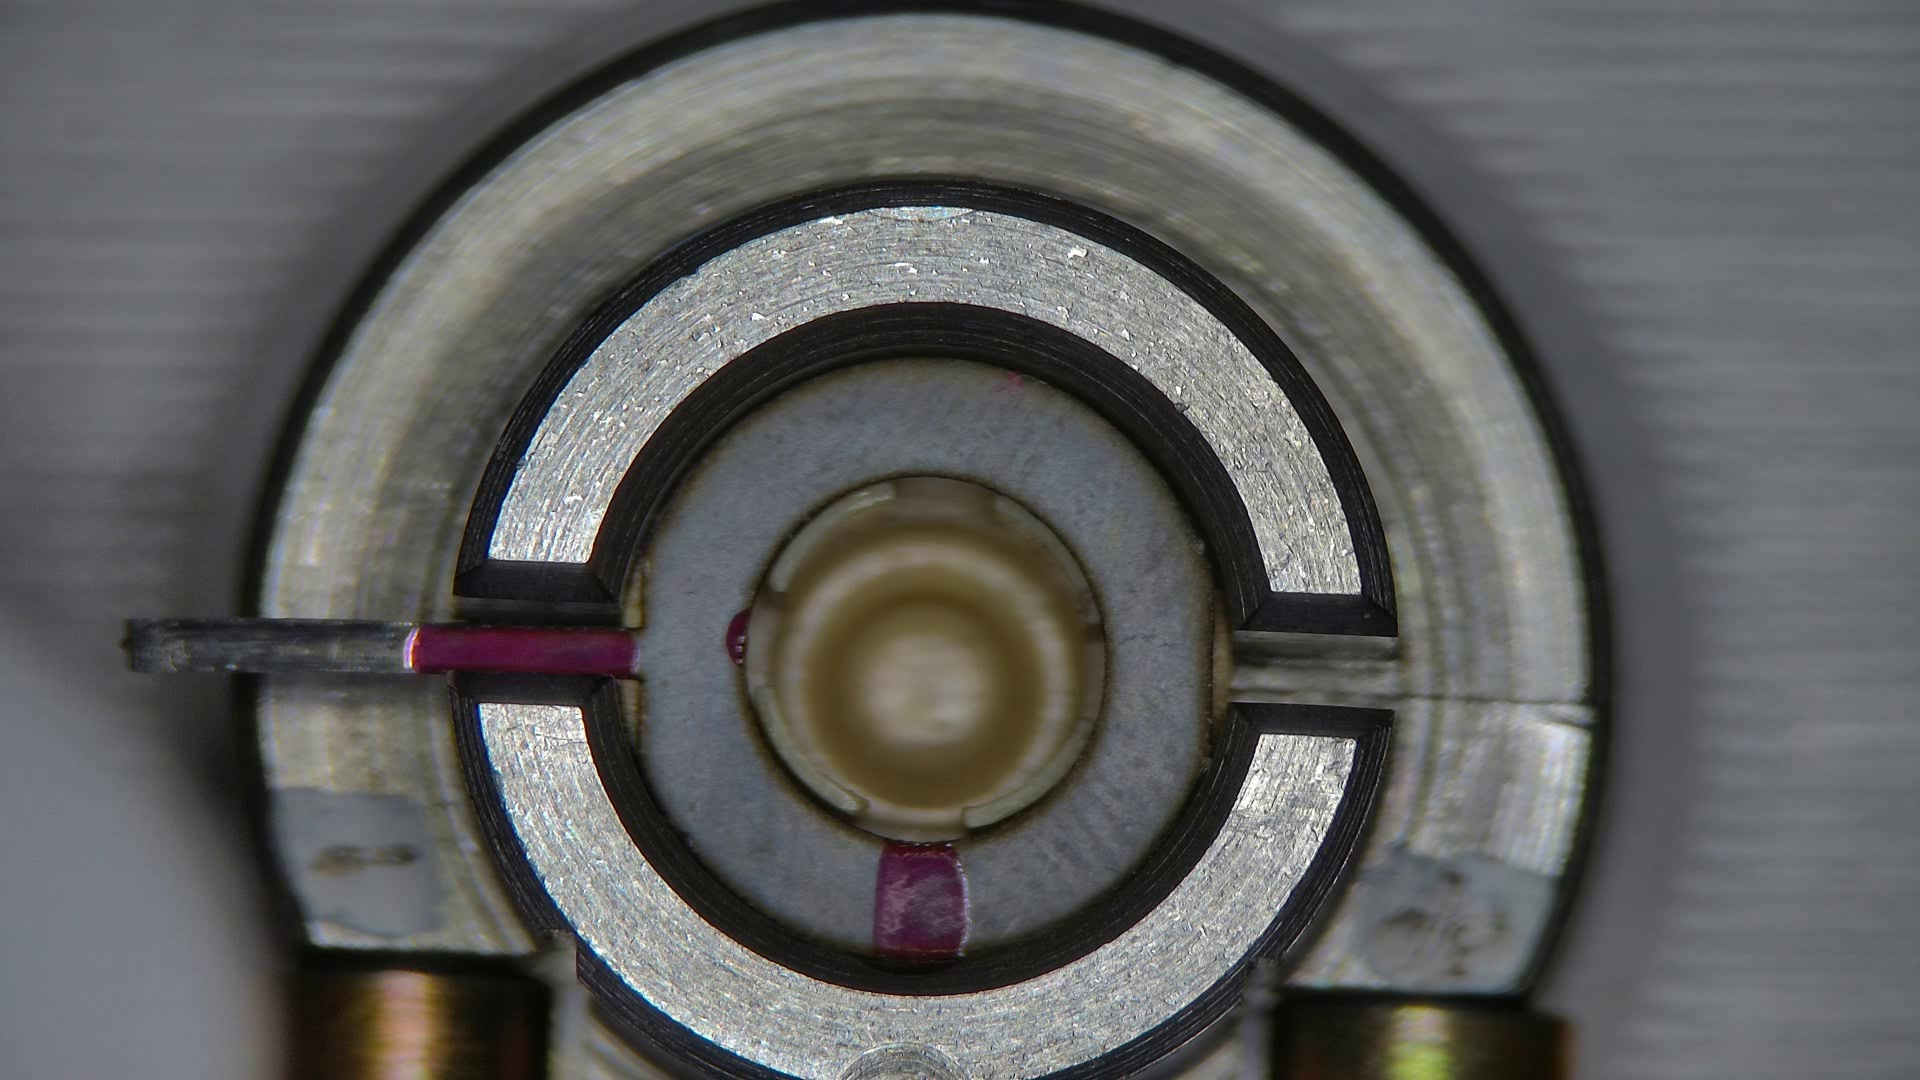YellowOring: (637, 357, 1207, 957)
